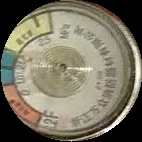green: (2, 50, 22, 86)
needle: (3, 50, 31, 62)
red: (3, 85, 44, 128)
yellow: (4, 11, 54, 55)
